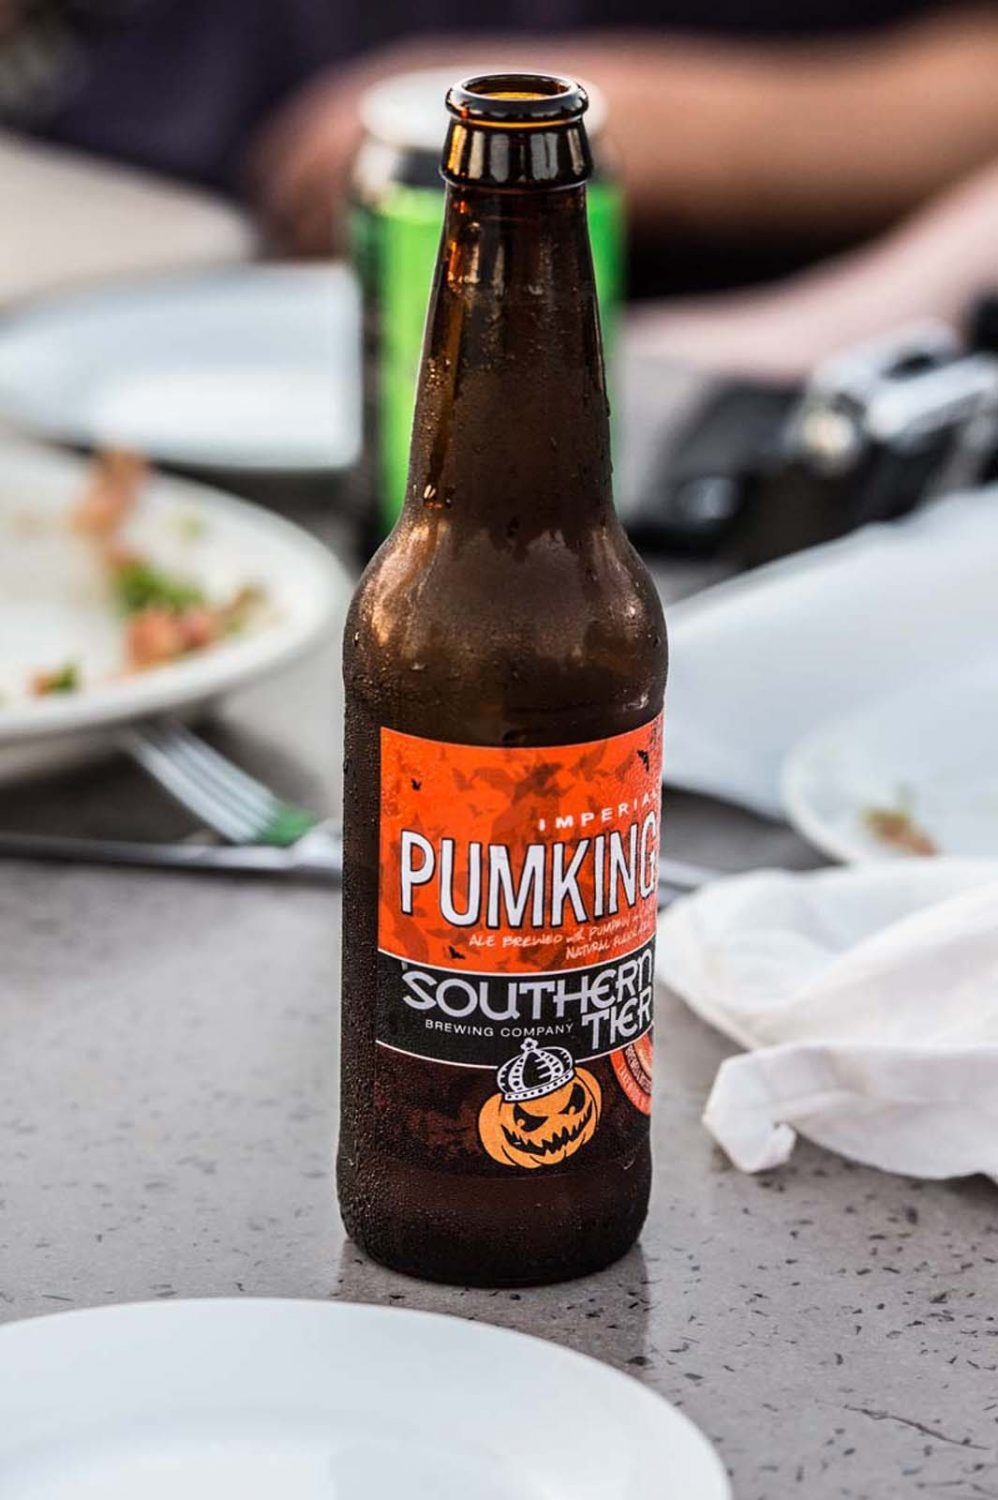beerBottle: (339, 107, 663, 1282)
